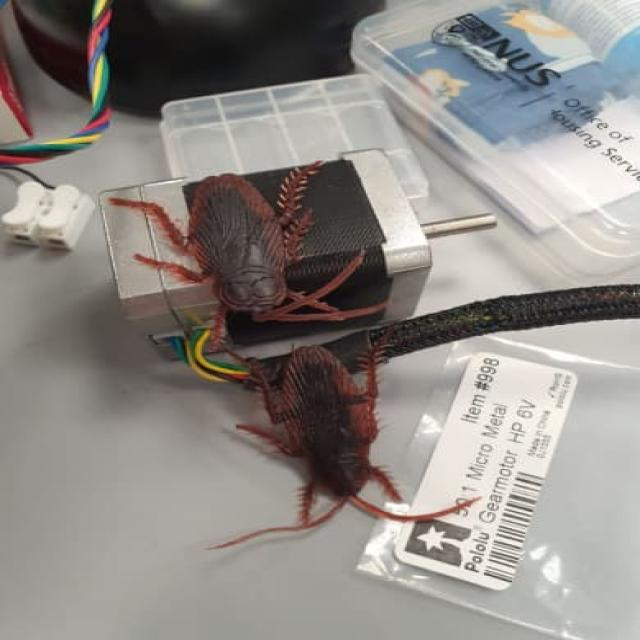Cockroach: (198, 320, 486, 556), (109, 162, 382, 334)
